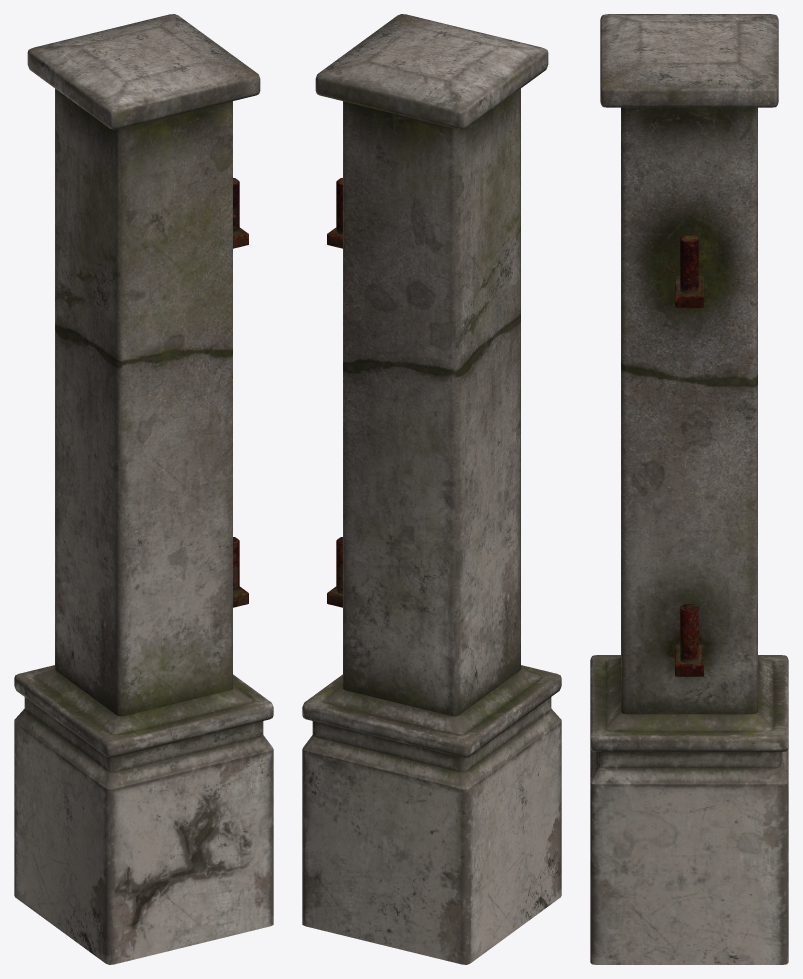
Rendered from SM_fence_06.fbx.
The picture shows the model from 3 angles, left to right: view 1: azimuth 30°, elevation 25°; view 2: azimuth 150°, elevation 25°; view 3: azimuth 270°, elevation 25°; orthographic projection. The views are drawn at different scales.
Visible parts, largest first — view 1: SM_fence_06; view 2: SM_fence_06; view 3: SM_fence_06.
Part boxes in pixels (x1,y1,x2,y2): SM_fence_06: [14, 14, 273, 964]; SM_fence_06: [302, 14, 561, 964]; SM_fence_06: [590, 14, 788, 964].
Size of the model in its own units: 43.28 by 195 by 39.7.
